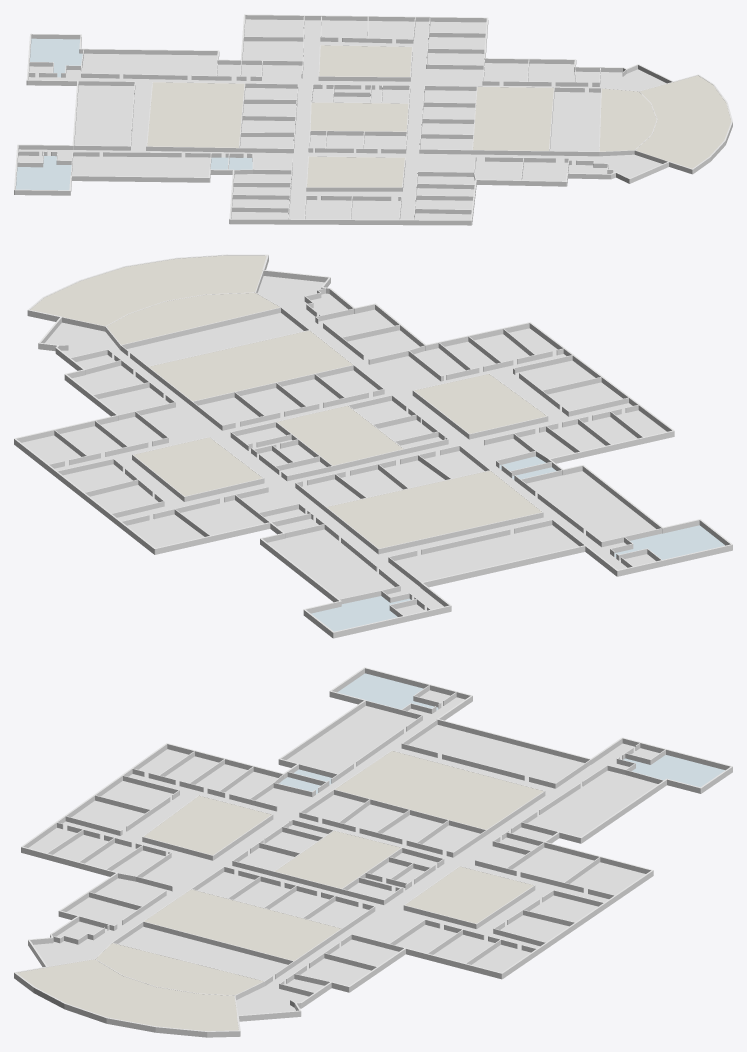
3 views of the same model, one above another, from view 1: azimuth 30°, elevation 25°; view 2: azimuth 150°, elevation 25°; view 3: azimuth 270°, elevation 25° (orthographic). The views are drawn at different scales.
Visible parts, largest first — view 1: m_4cad24b335d6d3ea; view 2: m_4cad24b335d6d3ea; view 3: m_4cad24b335d6d3ea.
Boxes of the visible parts, <box> form: m_4cad24b335d6d3ea: <box>14,14,732,225</box>; m_4cad24b335d6d3ea: <box>14,254,732,638</box>; m_4cad24b335d6d3ea: <box>14,667,732,1037</box>.
Size of the model in its own units: 65.68 by 0.4708 by 54.73.
